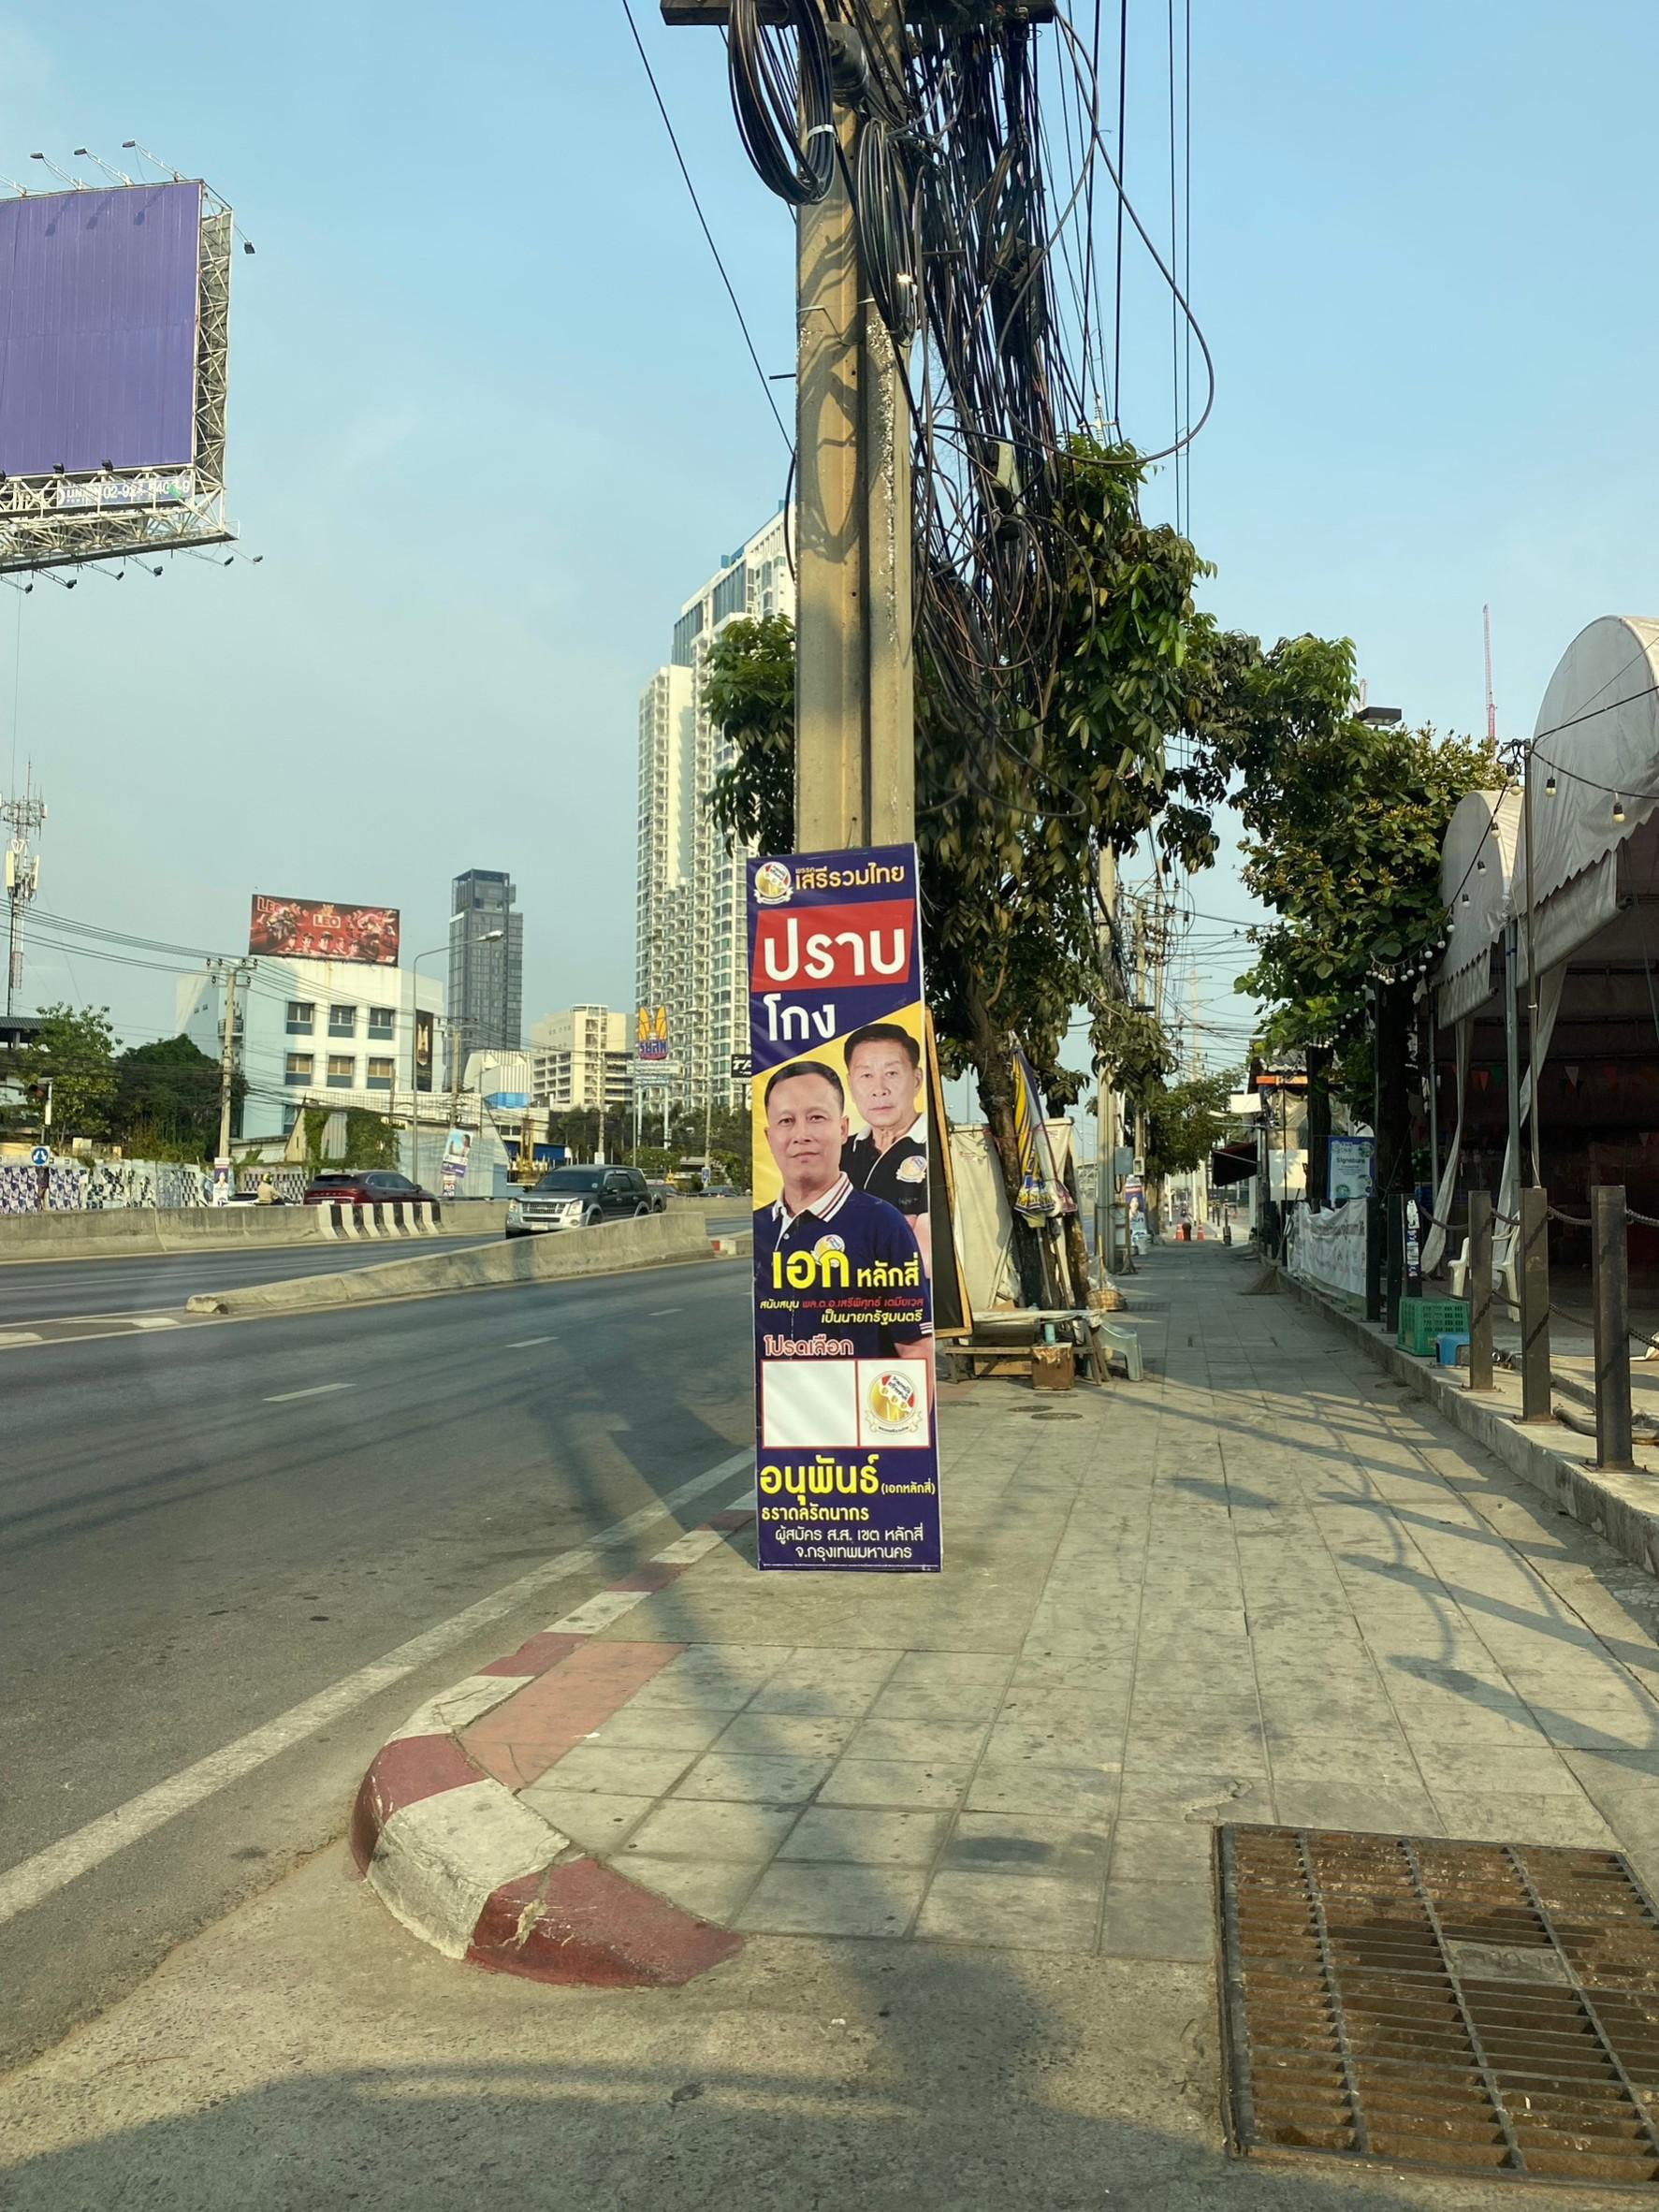Banner: (742, 855, 955, 1575)
